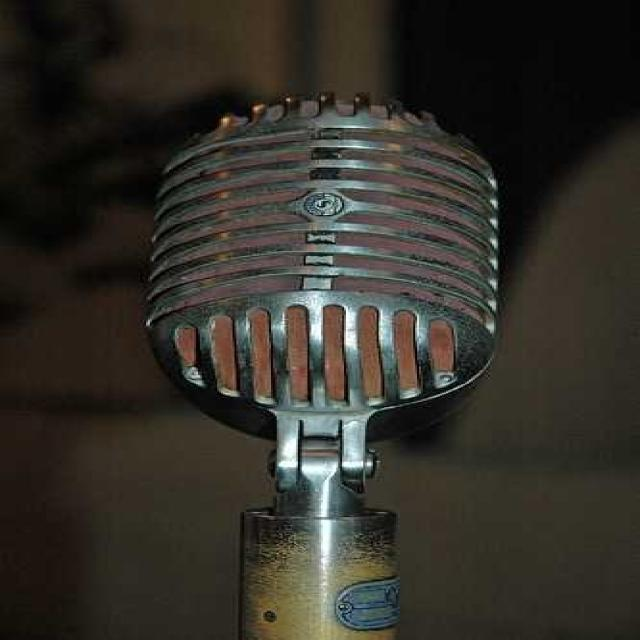microphone: (111, 83, 529, 485)
